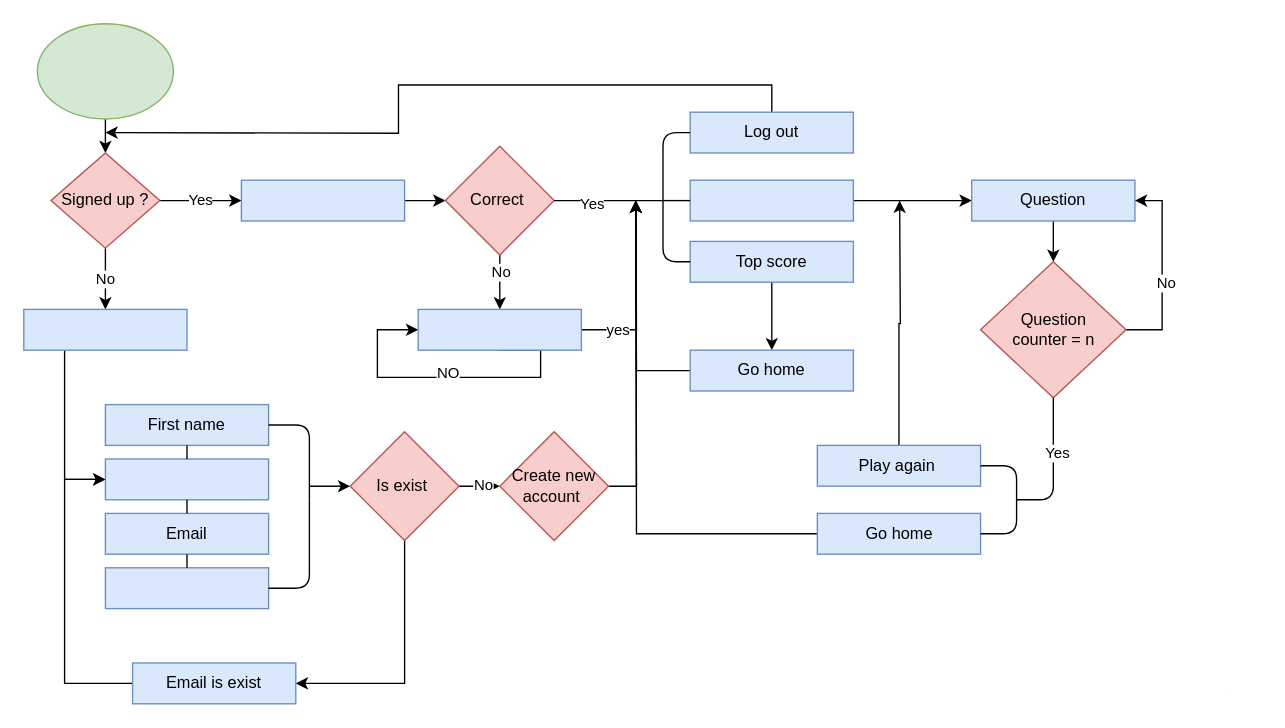
Image size: 1285x728. Some labels were removed from this diagram. The shapes that lost their labels are listed below. From the top down, each one's box as (x1, y1, x2, y2) in pixels, then its label:
(36, 22, 173, 119): Launch app
(240, 179, 405, 221): Enter Emil/Password
(689, 179, 853, 221): Play
(22, 308, 187, 350): Create Account
(417, 308, 581, 350): Re-enter Emil/Password
(104, 458, 269, 500): Last name
(104, 566, 269, 609): Password
